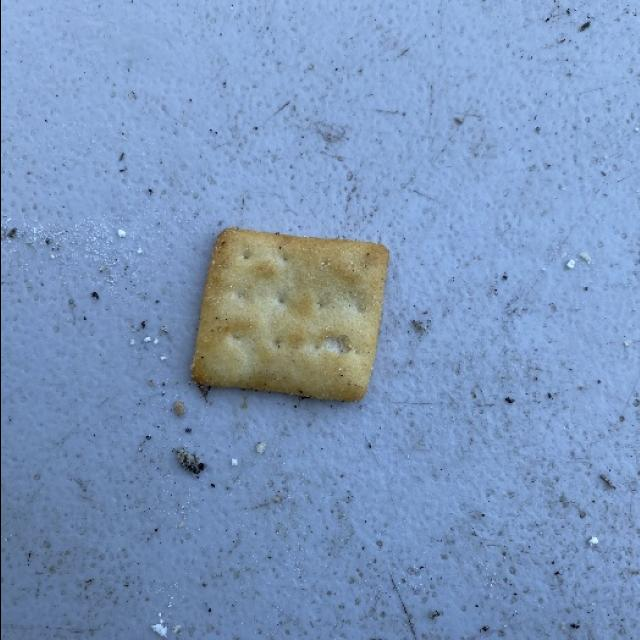organik: (199, 226, 388, 406)
